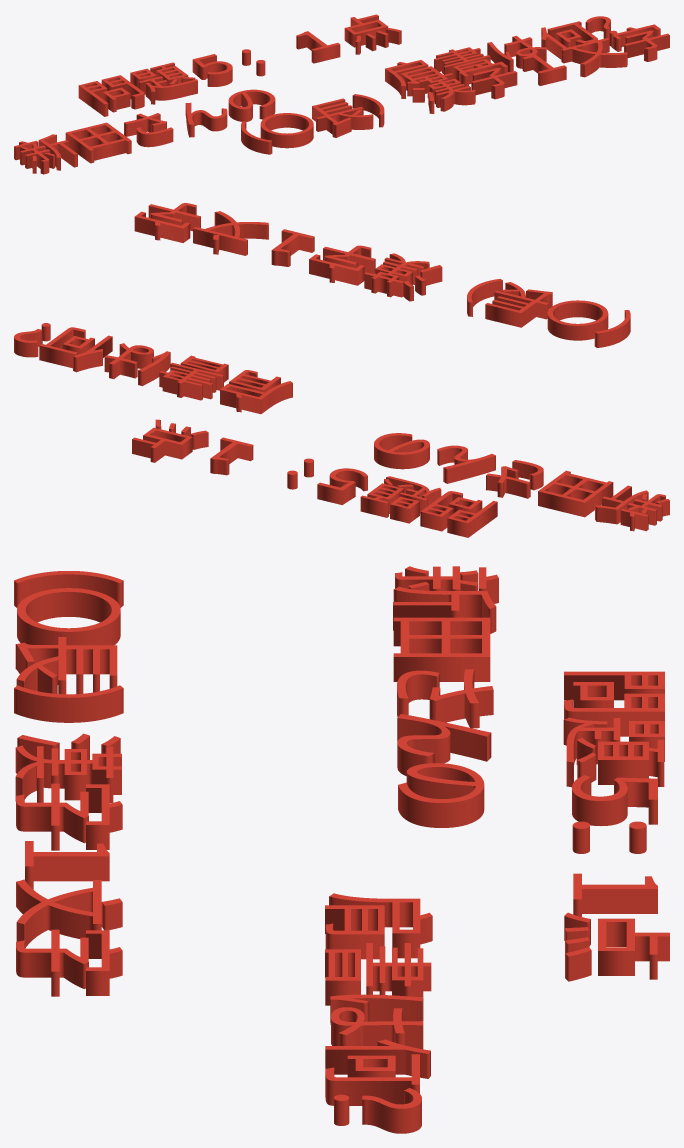
3 views of the same model, one above another, from view 1: azimuth 30°, elevation 25°; view 2: azimuth 150°, elevation 25°; view 3: azimuth 270°, elevation 25° (orthographic). The views are drawn at different scales.
Parts seen in each view (by area): view 1: テキスト.002, テキスト.004, テキスト.001, テキスト.005; view 2: テキスト.002, テキスト.004, テキスト.001, テキスト.005; view 3: テキスト.002, テキスト.004, テキスト.001, テキスト.005.
Part boxes in pixels (x1,y1,x2,y2): テキスト.002: (241, 24, 669, 154); テキスト.004: (78, 14, 401, 116); テキスト.001: (14, 89, 275, 174); テキスト.005: (385, 16, 617, 98); テキスト.002: (134, 203, 630, 347); テキスト.004: (132, 419, 497, 537); テキスト.001: (374, 433, 669, 531); テキスト.005: (14, 323, 292, 414); テキスト.002: (14, 571, 123, 996); テキスト.004: (563, 671, 669, 981); テキスト.001: (393, 566, 498, 827); テキスト.005: (325, 893, 432, 1133).
Bounding box in the file's own units: 11.29 × 1.35 × 5.7.
